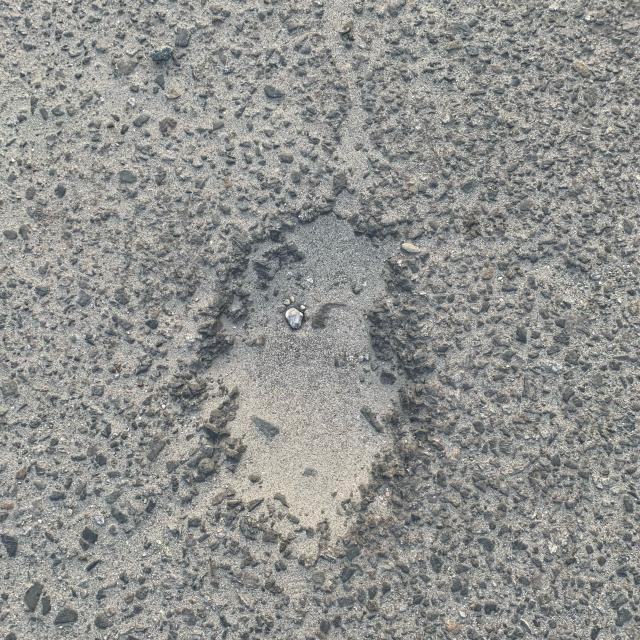unexpected: (4, 4, 640, 640)
